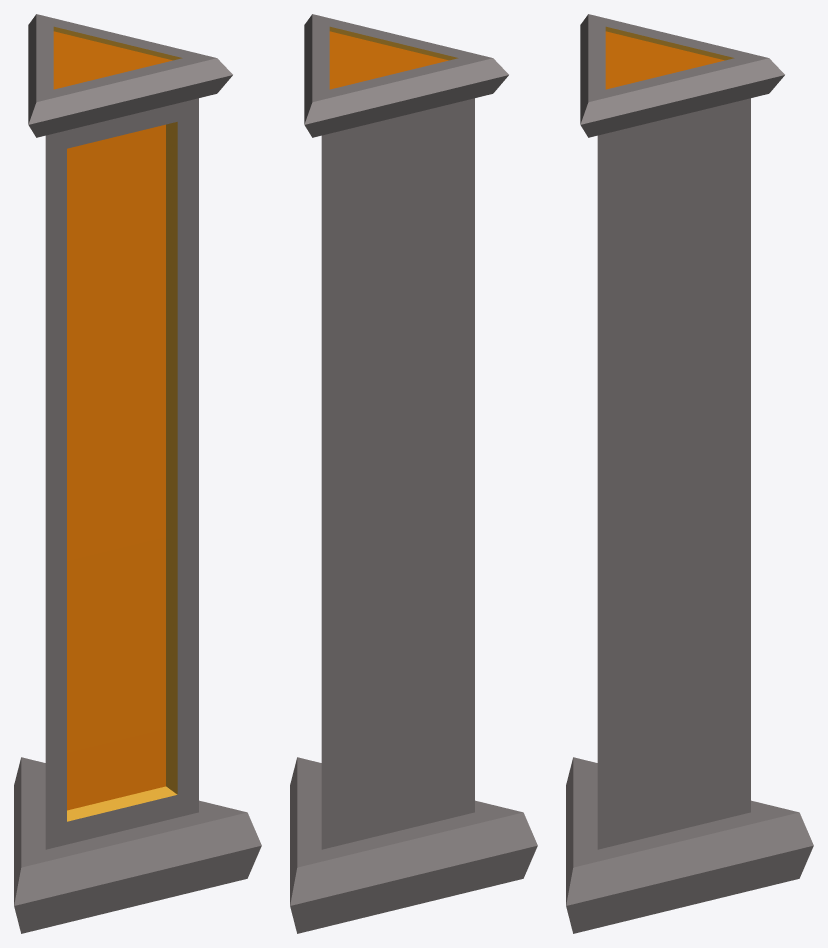
Rendered from Light_01.glb.
3 views of the same model, side by side, from view 1: azimuth 30°, elevation 25°; view 2: azimuth 150°, elevation 25°; view 3: azimuth 270°, elevation 25° (orthographic).
Visible parts, largest first — view 1: Light_01; view 2: Light_01; view 3: Light_01.
Part boxes in pixels (left/top/right/bottom): Light_01: left=14, top=14, right=261, bottom=933; Light_01: left=290, top=14, right=537, bottom=933; Light_01: left=566, top=14, right=813, bottom=933.
Size of what is drawn, in the model's own units: 0.3943 by 1.25 by 0.3415.
2 materials, 2 textured.
